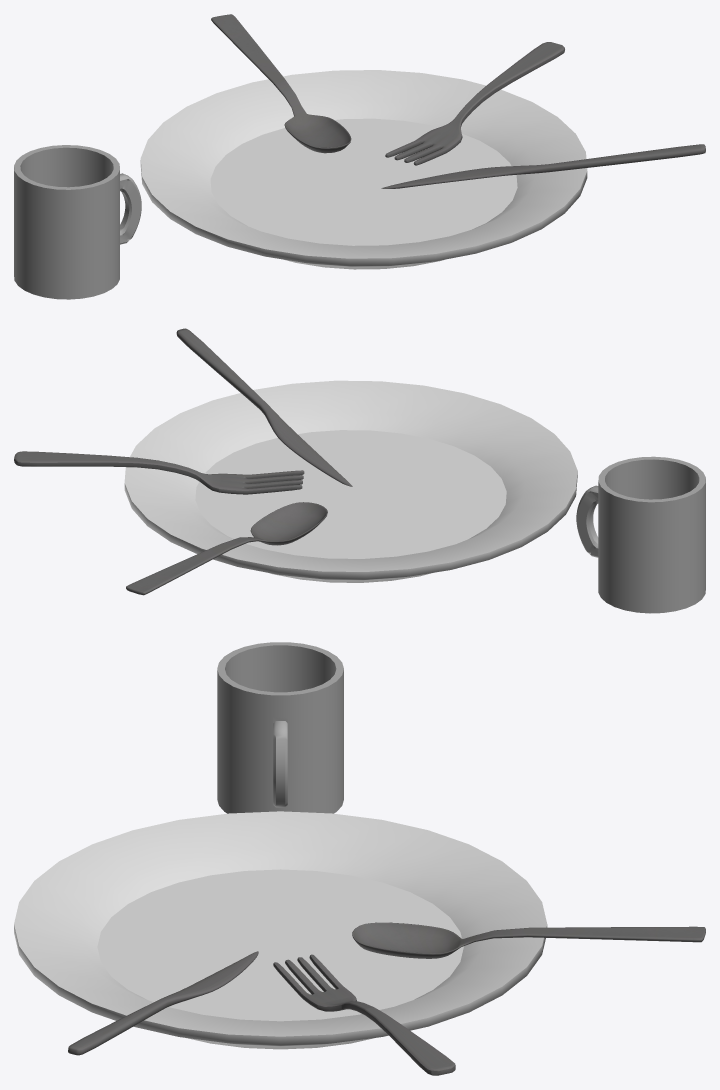
File: utensilios.fbx
3 views of the same model, one above another, from view 1: azimuth 30°, elevation 25°; view 2: azimuth 150°, elevation 25°; view 3: azimuth 270°, elevation 25° (orthographic). The views are drawn at different scales.
Parts seen in each view (by area): view 1: prato, caneca, colher, garfo, faca; view 2: prato, caneca, garfo, colher, faca; view 3: prato, caneca, colher, garfo, faca.
Boxes of the visible parts, x1,y1,x2,y2 form: prato: [140, 70, 587, 269]; caneca: [14, 145, 141, 299]; colher: [211, 14, 351, 153]; garfo: [385, 42, 564, 165]; faca: [381, 144, 705, 188]; prato: [124, 380, 577, 582]; caneca: [576, 456, 705, 613]; garfo: [14, 451, 304, 494]; colher: [126, 502, 327, 595]; faca: [176, 328, 352, 486]; prato: [14, 811, 547, 1049]; caneca: [217, 642, 343, 813]; colher: [352, 922, 705, 958]; garfo: [273, 954, 455, 1075]; faca: [68, 951, 258, 1055].
Bounding box in the file's own units: 331 × 57.07 × 274.
Materials: 3 (1 with a texture image).
